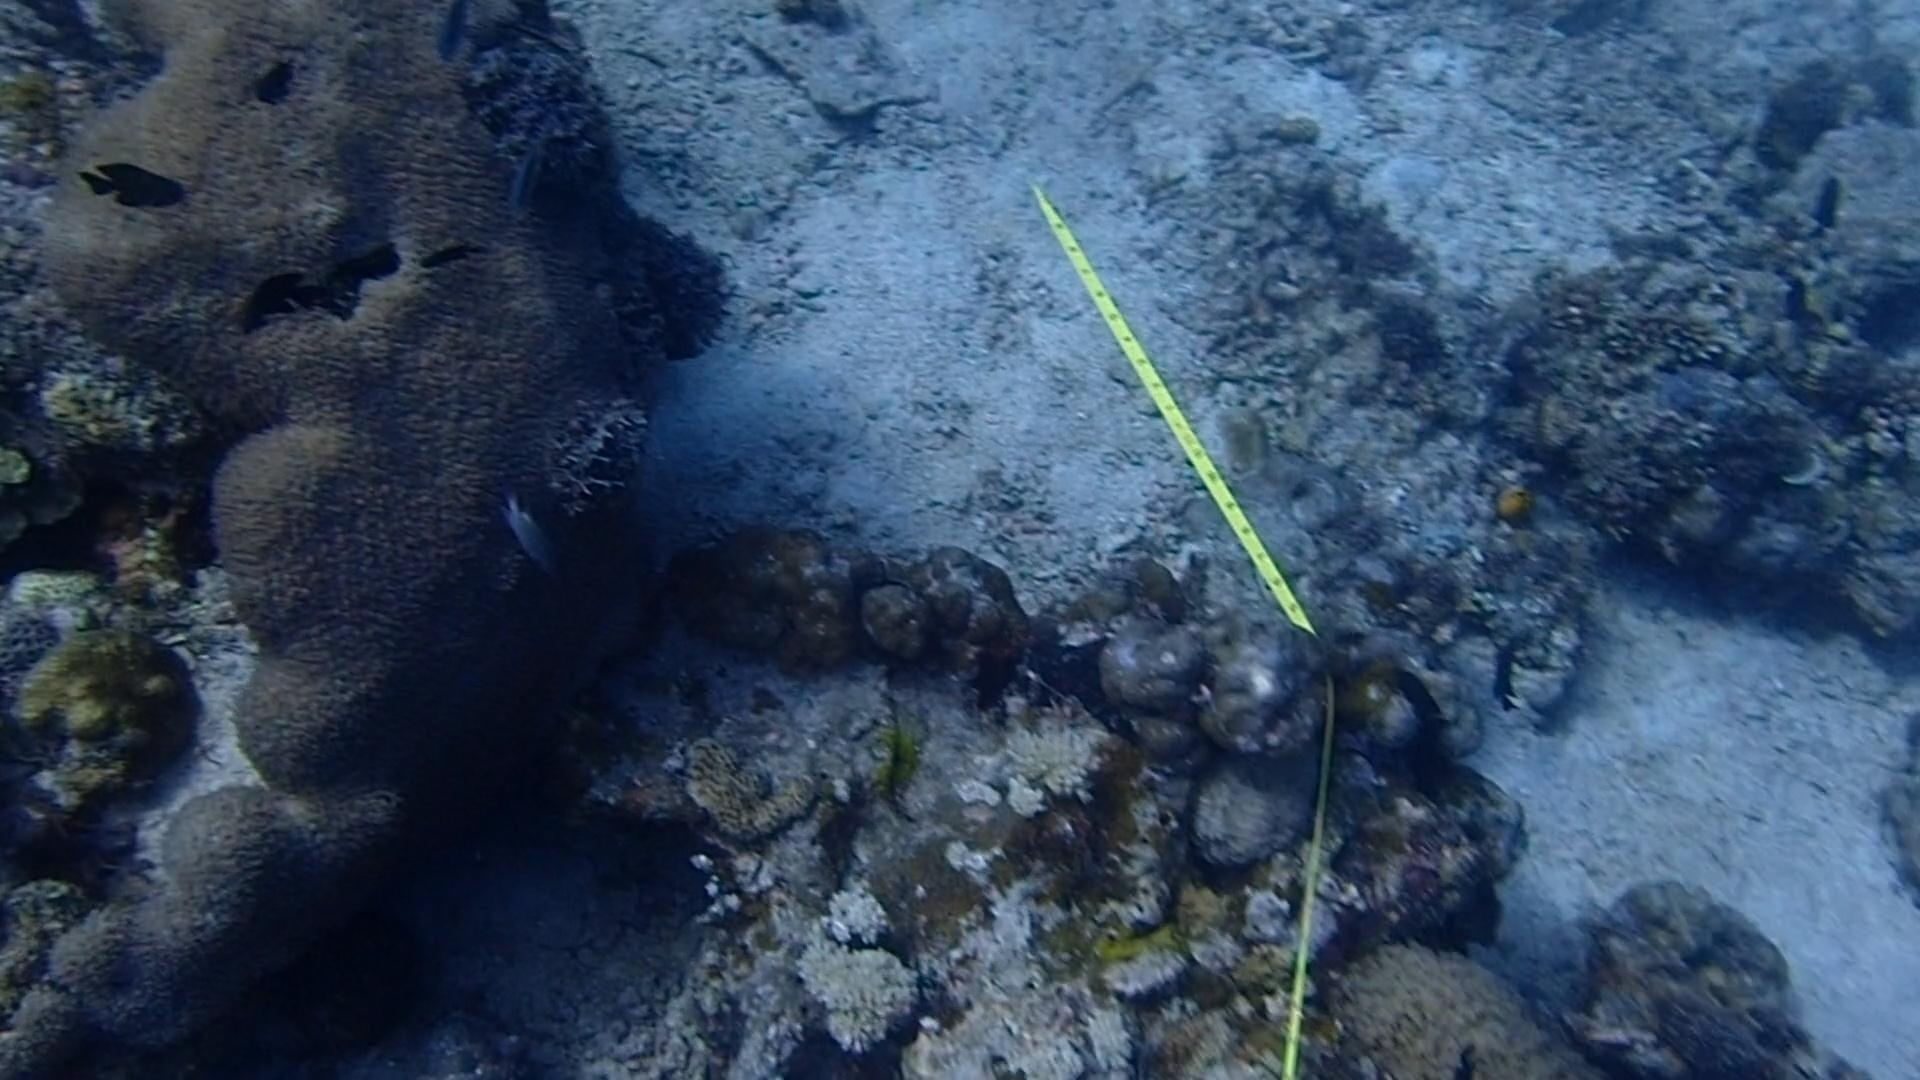Dark Fish: (59, 150, 193, 218), (216, 268, 332, 344), (1371, 653, 1461, 741), (233, 42, 309, 112), (1477, 634, 1532, 715), (423, 228, 497, 282), (1807, 158, 1854, 241), (1767, 252, 1820, 322)
Light Fish: (467, 484, 571, 582), (496, 123, 563, 211)
